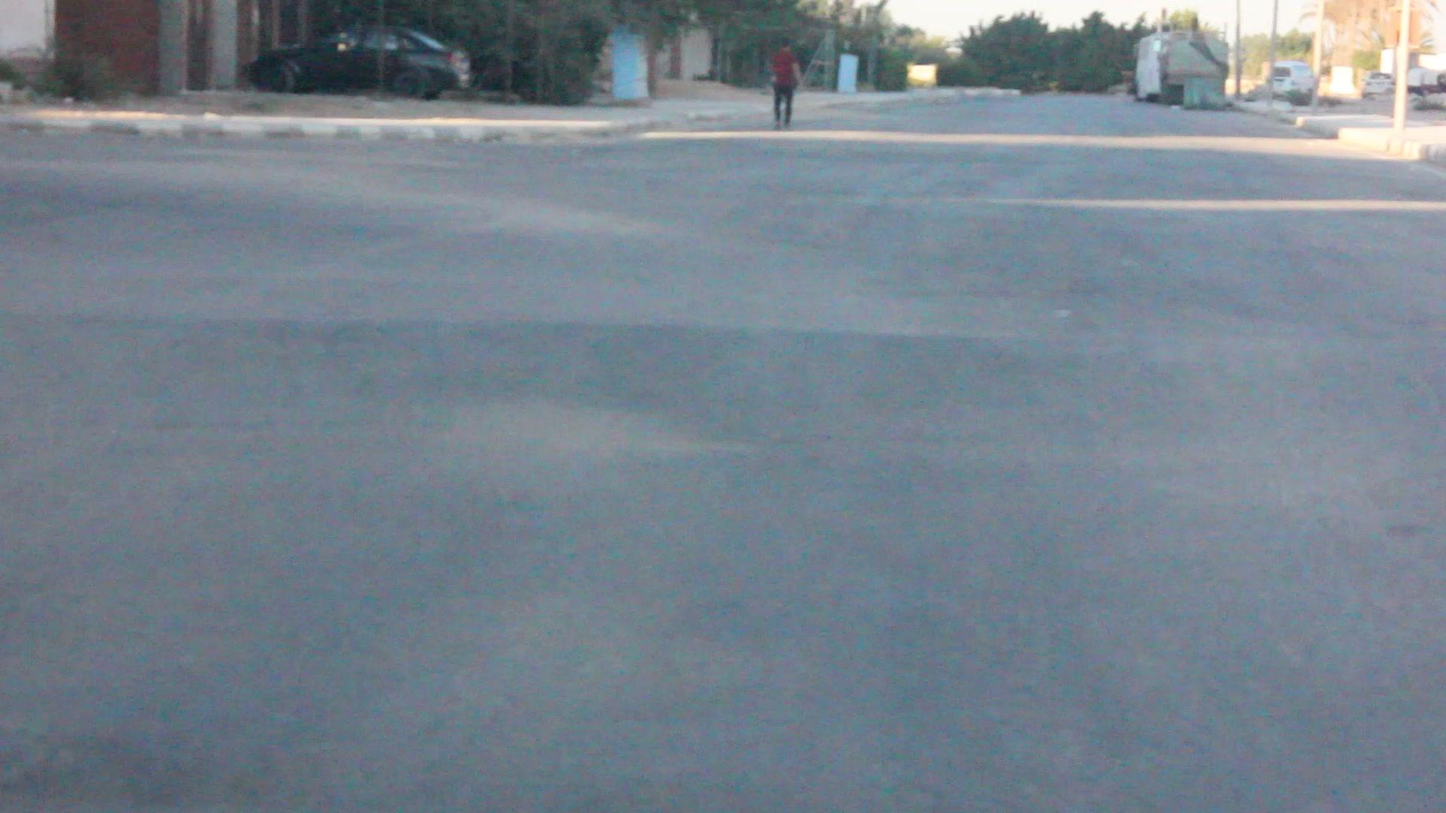Bump: (19, 282, 1446, 461)
